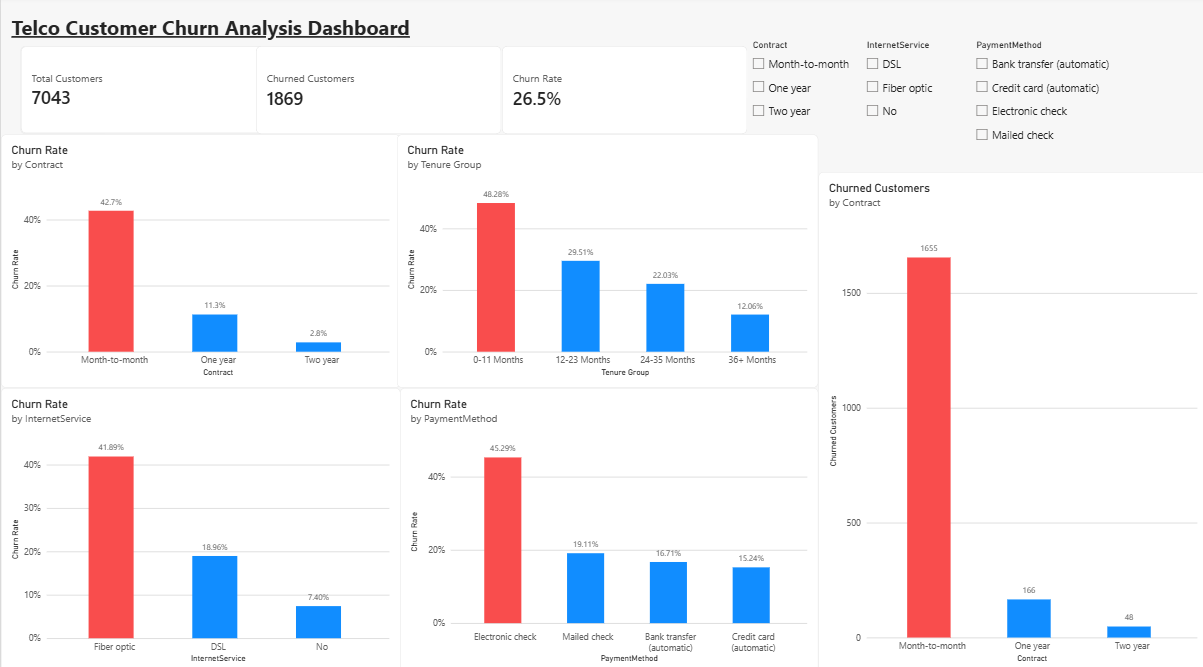

Layout of this report page (visuals, bound fields, positions):
{"tool":"powerbi","page":{"name":"Page 1","canvas":[1920,1080],"ordinal":0},"visuals":[{"type":"cardVisual","title":"Total Custoemr","fields":{"Data":["CountNonNull(telco_churn telco_customers.customerID)"]},"box":[30,81.7,387.5,140],"z":0},{"type":"cardVisual","fields":{"Data":["CountNonNull(telco_churn telco_customers.customerID)"]},"box":[406.7,81.7,390,140],"z":1},{"type":"cardVisual","fields":{"Data":["telco_churn telco_customers.Churn Rate"]},"box":[796.7,81.7,390,140],"z":2},{"type":"clusteredColumnChart","fields":{"Category":["telco_churn telco_customers.Contract"],"Y":["telco_churn telco_customers.Churn Rate"]},"box":[0,222.5,635,402.5],"z":3},{"type":"clusteredColumnChart","fields":{"Category":["telco_churn telco_customers.Tenure Group"],"Y":["telco_churn telco_customers.Churn Rate"]},"box":[630,222.5,670,402.5],"z":4},{"type":"clusteredColumnChart","fields":{"Category":["telco_churn telco_customers.InternetService"],"Y":["telco_churn telco_customers.Churn Rate"]},"box":[0,625,635,455],"z":5},{"type":"clusteredColumnChart","fields":{"Y":["telco_churn telco_customers.Churn Rate"],"Category":["telco_churn telco_customers.PaymentMethod"]},"box":[635,625,665,455],"z":6},{"type":"textbox","box":[17.5,27.5,675,60],"z":7},{"type":"slicer","fields":{"Values":["telco_churn telco_customers.Contract"]},"box":[1187.5,72.5,182.5,150],"z":8},{"type":"slicer","fields":{"Values":["telco_churn telco_customers.InternetService"]},"box":[1370,72.5,172.5,150],"z":9},{"type":"slicer","fields":{"Values":["telco_churn telco_customers.PaymentMethod"]},"box":[1542.5,72.5,252.5,180],"z":10},{"type":"clusteredColumnChart","fields":{"Category":["telco_churn telco_customers.Contract"],"Y":["telco_churn telco_customers.Churned Customers"]},"box":[1300,282.5,620,797.5],"z":11}]}

Visuals, with their boxes in screenshot pixels (x1, y1, x2, y2), scaled from the page's 1920x1080 canvas onto the 1203x667 screenshot:
"Total Custoemr" cardVisual: left=19, top=50, right=262, bottom=137
cardVisual - CountNonNull(telco_churn telco_customers.customerID): left=255, top=50, right=499, bottom=137
cardVisual - telco_churn telco_customers.Churn Rate: left=499, top=50, right=744, bottom=137
clusteredColumnChart - telco_churn telco_customers.Contract x telco_churn telco_customers.Churn Rate: left=0, top=137, right=398, bottom=386
clusteredColumnChart - telco_churn telco_customers.Tenure Group x telco_churn telco_customers.Churn Rate: left=395, top=137, right=815, bottom=386
clusteredColumnChart - telco_churn telco_customers.InternetService x telco_churn telco_customers.Churn Rate: left=0, top=386, right=398, bottom=666
clusteredColumnChart - telco_churn telco_customers.Churn Rate x telco_churn telco_customers.PaymentMethod: left=398, top=386, right=815, bottom=666
textbox: left=11, top=17, right=434, bottom=54
slicer - telco_churn telco_customers.Contract: left=744, top=45, right=858, bottom=137
slicer - telco_churn telco_customers.InternetService: left=858, top=45, right=966, bottom=137
slicer - telco_churn telco_customers.PaymentMethod: left=966, top=45, right=1125, bottom=156
clusteredColumnChart - telco_churn telco_customers.Contract x telco_churn telco_customers.Churned Customers: left=815, top=174, right=1202, bottom=666
